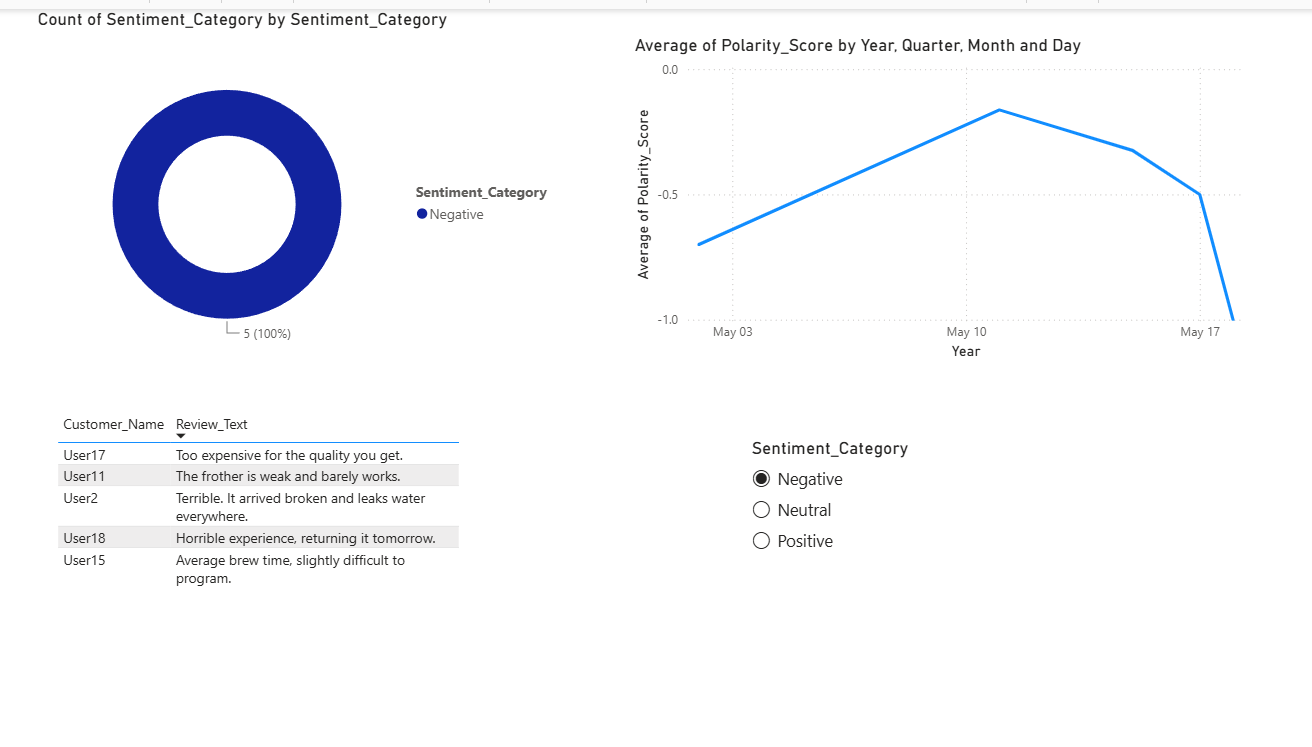

What the dashboard file says about the page in this screenshot:
{"tool":"powerbi","page":{"name":"Page 1","canvas":[1280,720],"ordinal":0},"visuals":[{"type":"donutChart","fields":{"Category":["analyzed_reviews.Sentiment_Category"],"Y":["CountNonNull(analyzed_reviews.Sentiment_Category)"]},"box":[34,0,517.8,359.1],"z":0},{"type":"lineChart","fields":{"Category":["analyzed_reviews.Review_Date.Variation.Date Hierarchy.Year","analyzed_reviews.Review_Date.Variation.Date Hierarchy.Quarter","analyzed_reviews.Review_Date.Variation.Date Hierarchy.Month","analyzed_reviews.Review_Date.Variation.Date Hierarchy.Day"],"Y":["Avg(analyzed_reviews.Polarity_Score)"]},"box":[612.3,24.6,610.4,319.4],"z":1},{"type":"tableEx","fields":{"Values":["analyzed_reviews.Customer_Name","analyzed_reviews.Review_Text"]},"box":[52.9,387.4,536.7,332.6],"z":2},{"type":"listSlicer","fields":{"Values":["analyzed_reviews.Sentiment_Category"]},"box":[725.7,415.8,192.8,275.9],"z":3}]}

Visuals, with their boxes in screenshot pixels (x1, y1, x2, y2), scaled from the page's 1280x720 canvas onto the 1312x747 screenshot:
donutChart - analyzed_reviews.Sentiment_Category x CountNonNull(analyzed_reviews.Sentiment_Category): bbox(35, 0, 566, 373)
lineChart - analyzed_reviews.Review_Date.Variation.Date Hierarchy.Year x analyzed_reviews.Review_Date.Variation.Date Hierarchy.Quarter: bbox(628, 26, 1253, 357)
tableEx - analyzed_reviews.Customer_Name x analyzed_reviews.Review_Text: bbox(54, 402, 604, 746)
listSlicer - analyzed_reviews.Sentiment_Category: bbox(744, 431, 941, 718)
